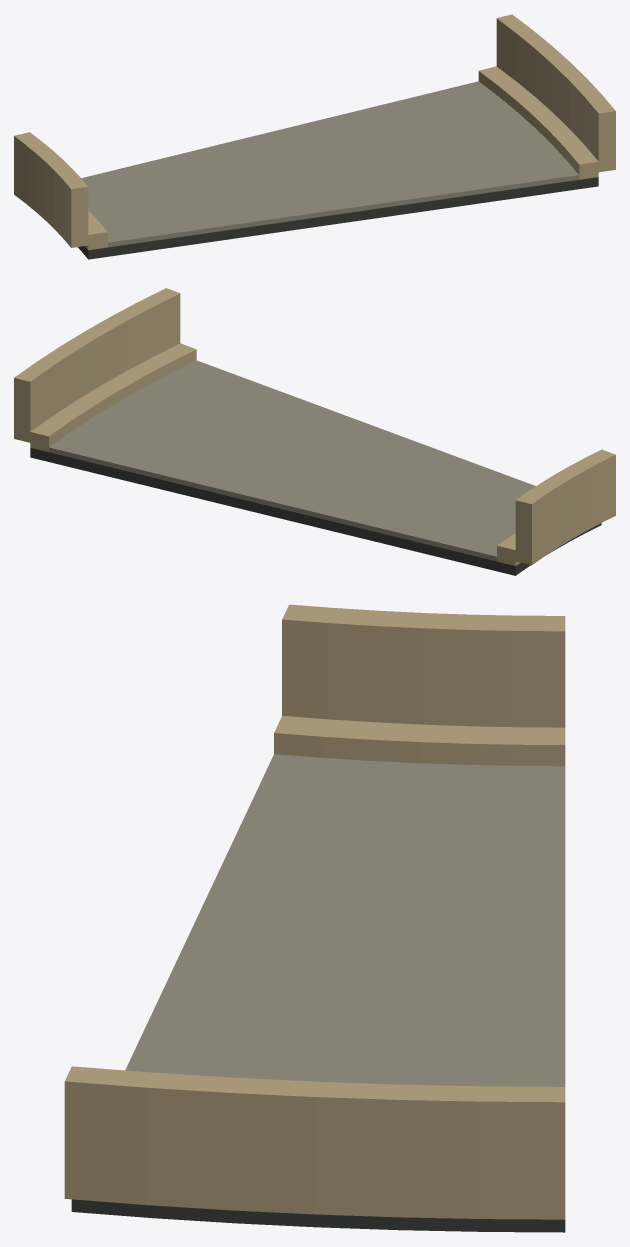
File: road_curve_guarded_right_11_25.fbx
3 renders of one model, top to bottom at view 1: azimuth 30°, elevation 25°; view 2: azimuth 150°, elevation 25°; view 3: azimuth 270°, elevation 25°, orthographic. The views are drawn at different scales.
Visible parts, largest first — view 1: Concrete curve.001, Curved parapet.003, Curved parapet.002, Curve base.001, Curved curb.003, Curved curb.002; view 2: Concrete curve.001, Curved parapet.003, Curved parapet.002, Curve base.001, Curved curb.003, Curved curb.002; view 3: Concrete curve.001, Curved parapet.003, Curved parapet.002, Curved curb.002, Curve base.001.
Boxes of the visible parts, x1=… form: Concrete curve.001: x1=81, y1=81, x2=579, y2=247; Curved parapet.003: x1=496, y1=14, x2=615, y2=172; Curved parapet.002: x1=14, y1=132, x2=88, y2=247; Curve base.001: x1=78, y1=177, x2=598, y2=259; Curved curb.003: x1=478, y1=66, x2=598, y2=179; Curved curb.002: x1=85, y1=211, x2=107, y2=250; Concrete curve.001: x1=49, y1=360, x2=535, y2=561; Curved parapet.003: x1=14, y1=288, x2=180, y2=442; Curved parapet.002: x1=515, y1=449, x2=615, y2=565; Curve base.001: x1=30, y1=448, x2=601, y2=575; Curved curb.003: x1=30, y1=343, x2=196, y2=452; Curved curb.002: x1=497, y1=533, x2=520, y2=565; Concrete curve.001: x1=125, y1=754, x2=565, y2=1086; Curved parapet.003: x1=64, y1=1066, x2=565, y2=1219; Curved parapet.002: x1=282, y1=604, x2=565, y2=727; Curved curb.002: x1=274, y1=716, x2=565, y2=766; Curve base.001: x1=71, y1=1199, x2=565, y2=1232.
Size of the model in its own units: 90898 by 38628 by 12400.
